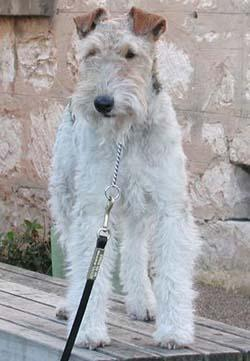wire-haired_fox_terrier: (46, 6, 200, 351)
